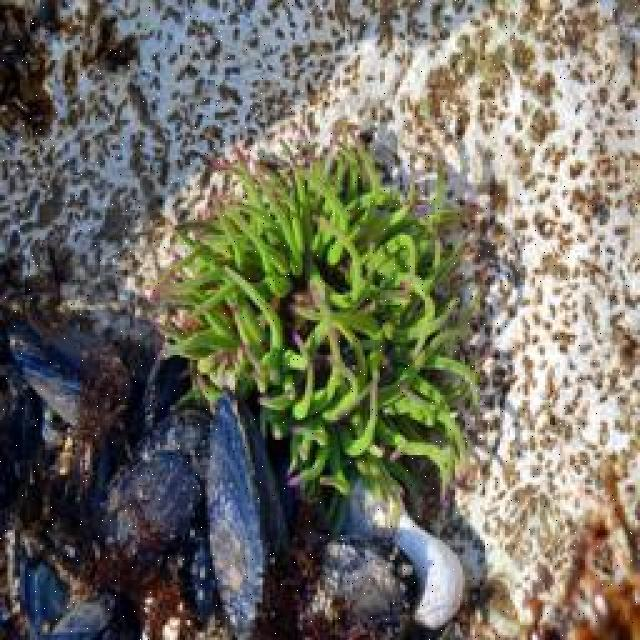reefs: (147, 130, 483, 536)
sea-floor: (91, 359, 213, 620), (206, 395, 284, 638), (8, 307, 132, 442), (18, 532, 120, 638)
